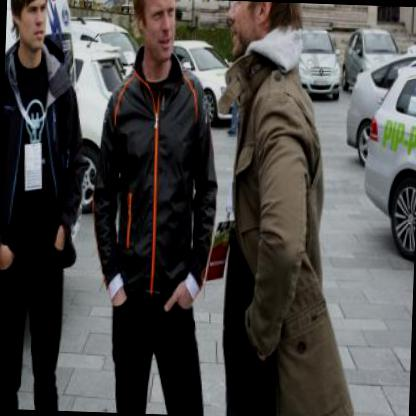car: (361, 63, 415, 269), (69, 36, 124, 210), (346, 47, 415, 168), (170, 38, 238, 129), (67, 15, 142, 81), (342, 16, 401, 90), (298, 27, 344, 104), (407, 34, 415, 61), (413, 25, 415, 52)
